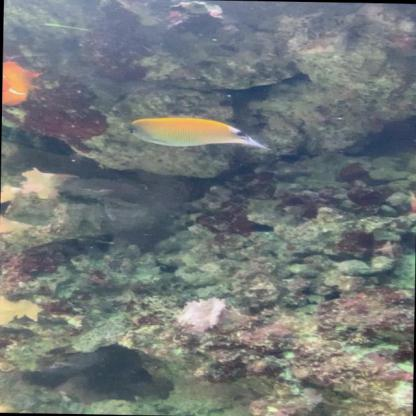fish: (125, 117, 279, 151), (2, 62, 40, 108)
